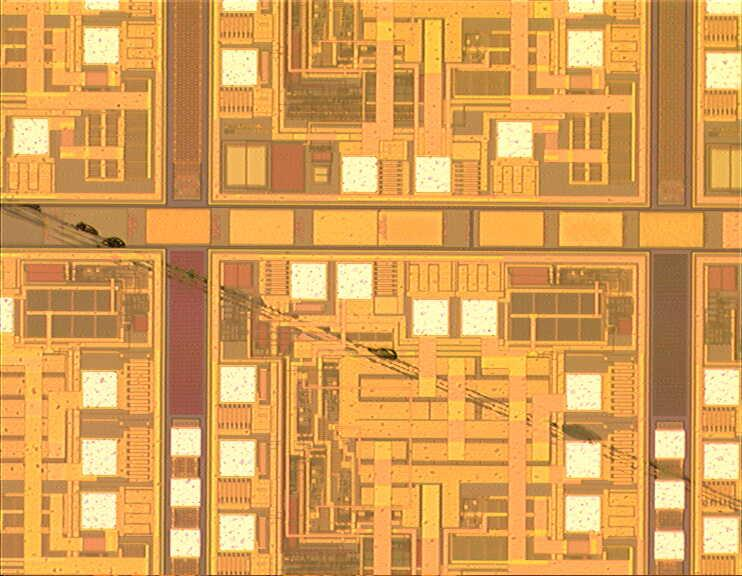SCRATCH: (1, 184, 742, 524)
